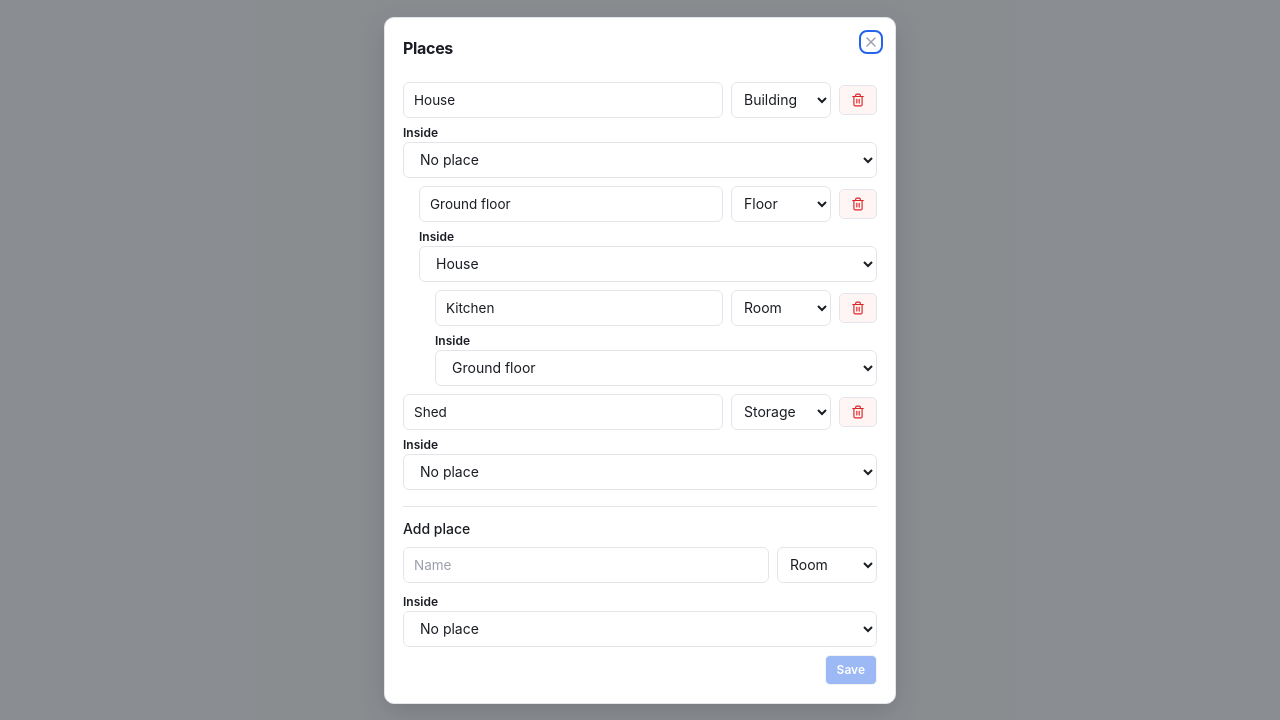
it: PlaceManager error codes › renders PLACE_HAS_CHILDREN in plain language
Expected: the 3rd field showing "Kitchen" is shown, [435,290,723,326]
Expected: the 1st field showing "House" is shown, [403,82,723,118]
Step 1. Click the 1st button named "Delete" → coordinates (858, 100), box [839,84,877,114]
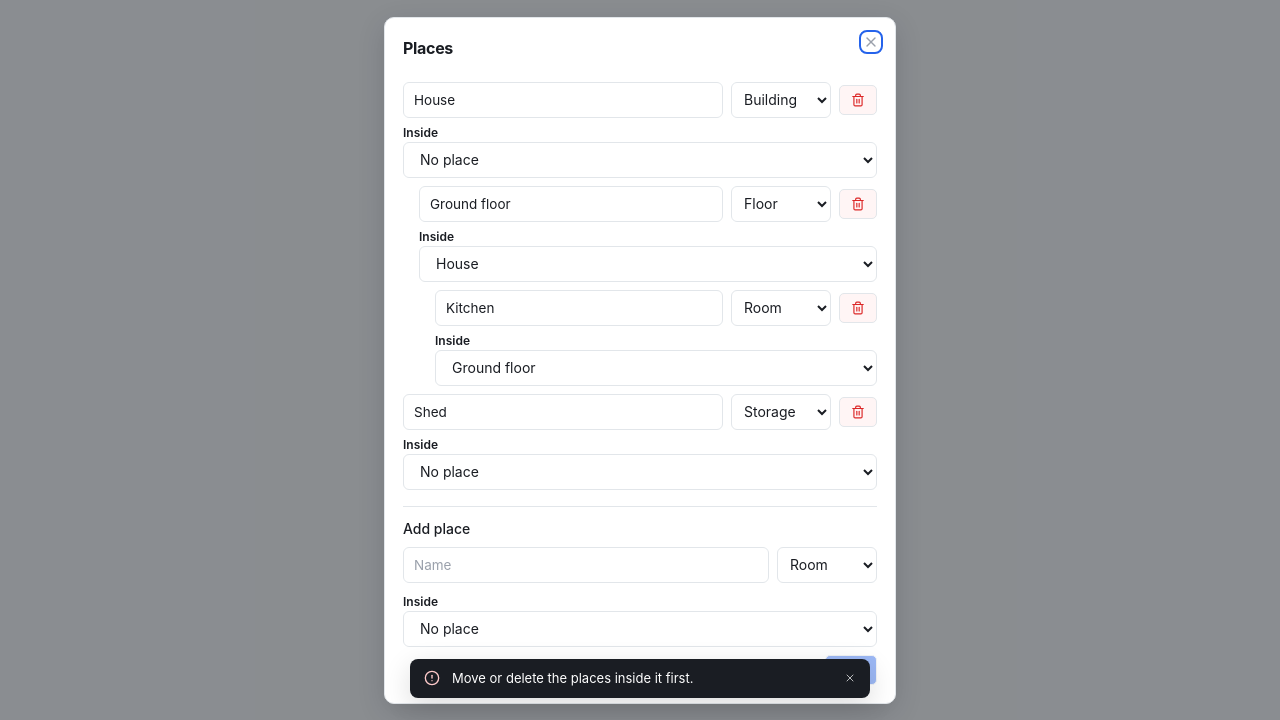
Expected: the text "Move or delete the places inside it first." is shown, [452,670,694,686]
